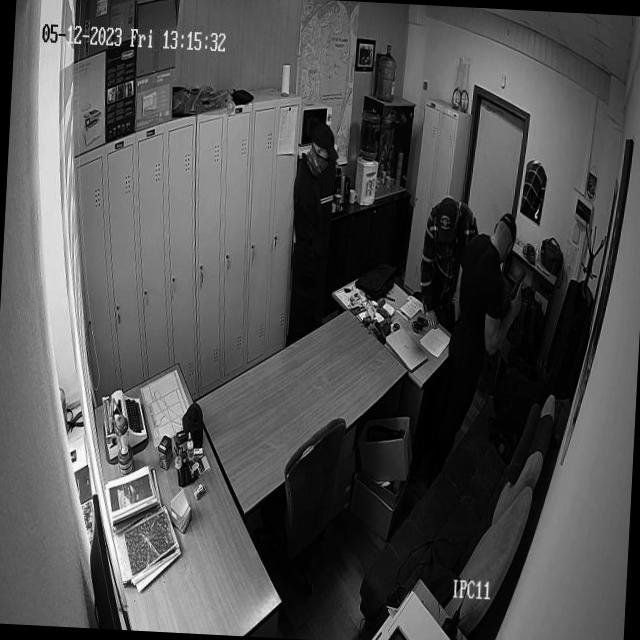gun: (508, 266, 530, 316)
person: (282, 122, 336, 339)
person with a gun: (441, 212, 536, 422)
